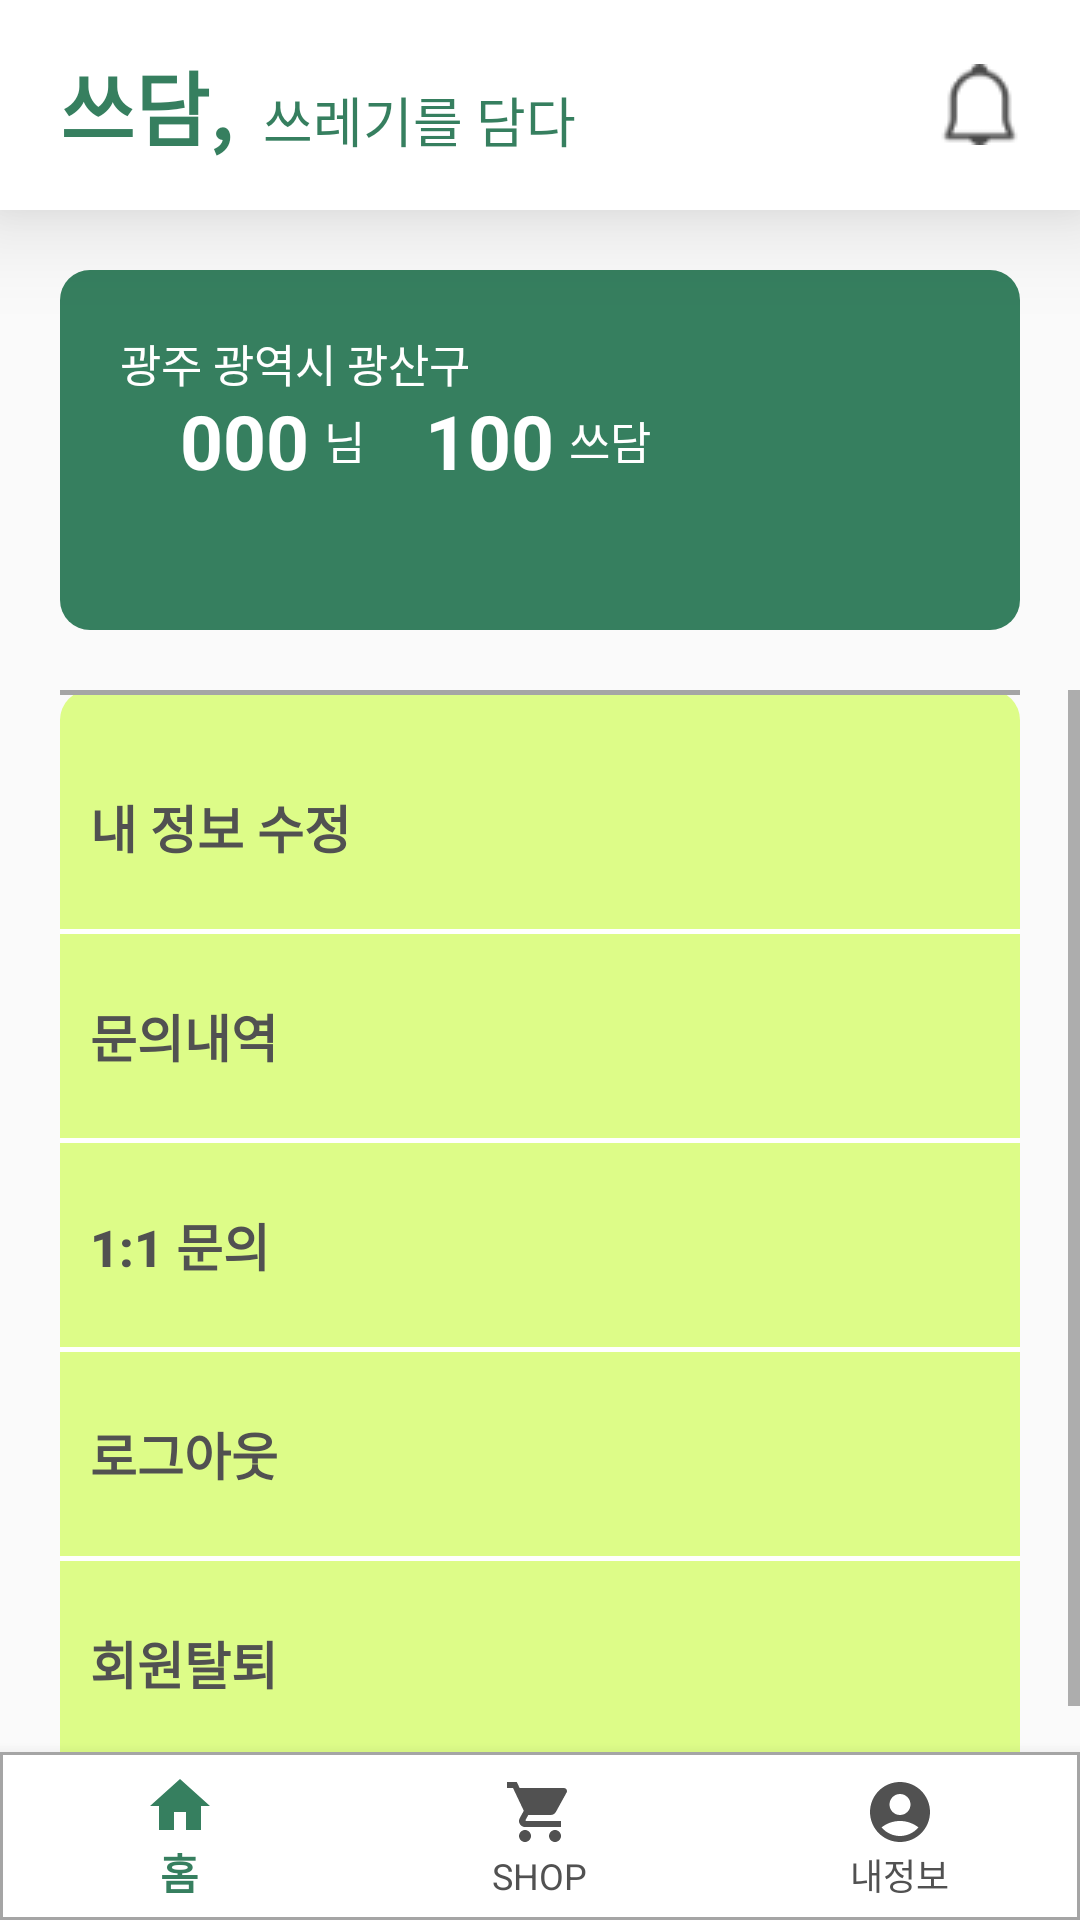

Screen size 1080 x 1920. Icon name, then its center in pixels as (x=x, y=y):
topbar bell: (x=980, y=104)
